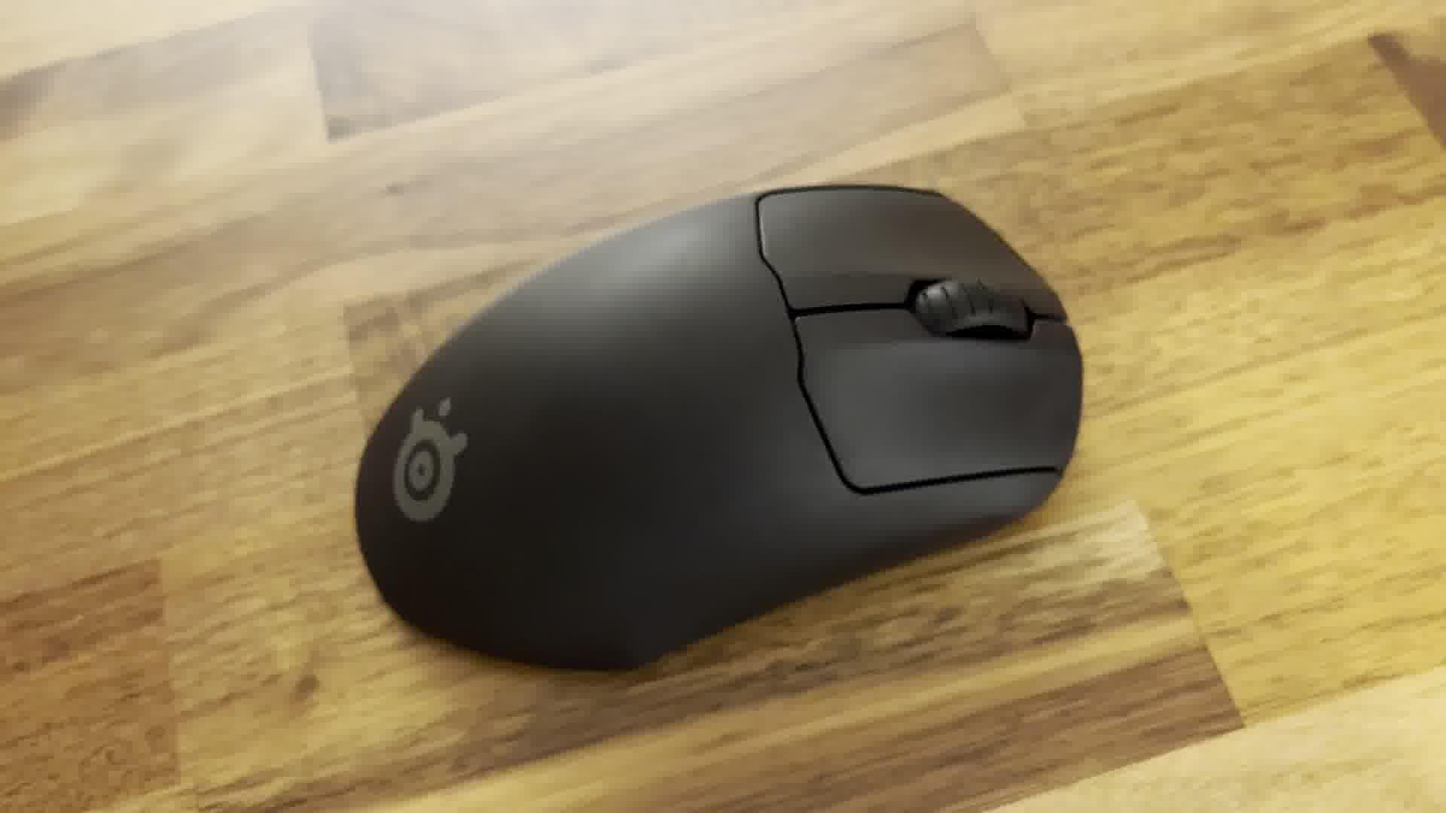steel-series: (347, 173, 1089, 678)
